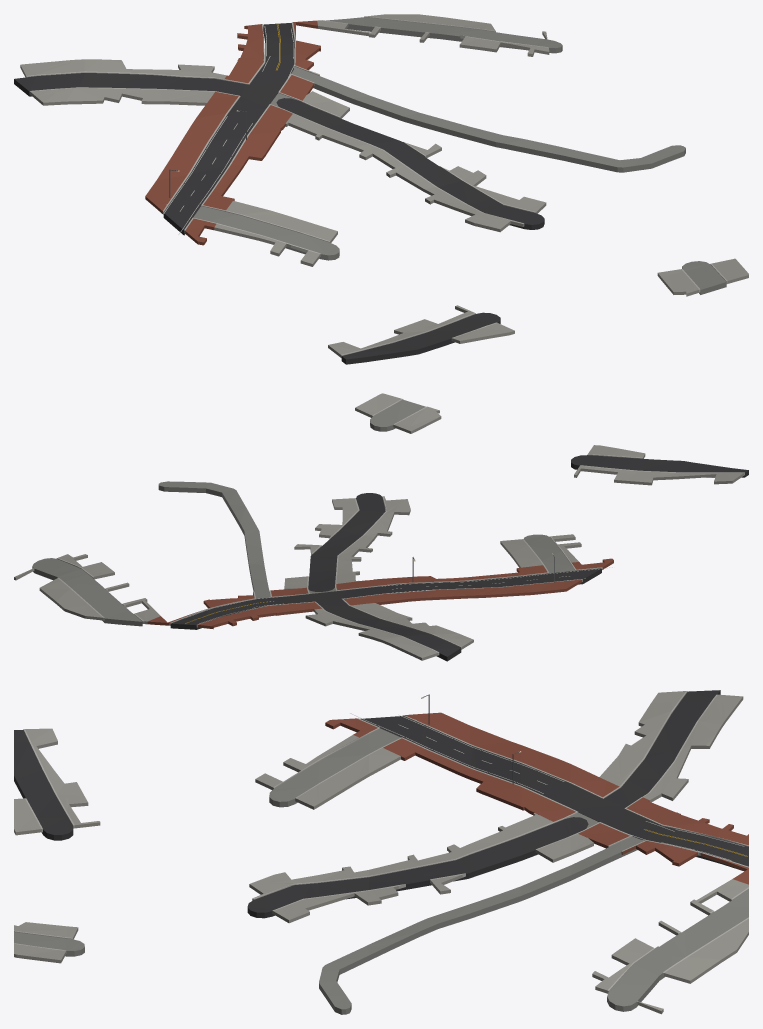
3 views of the same model, one above another, from view 1: azimuth 30°, elevation 25°; view 2: azimuth 150°, elevation 25°; view 3: azimuth 270°, elevation 25° (orthographic). The views are drawn at different scales.
Bounding box in the file's own units: 125 × 16.3 × 146.
